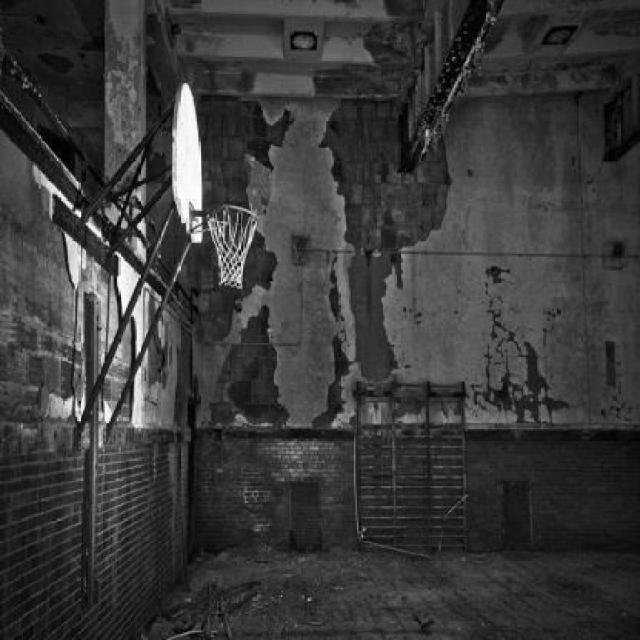rim: (208, 205, 258, 288)
